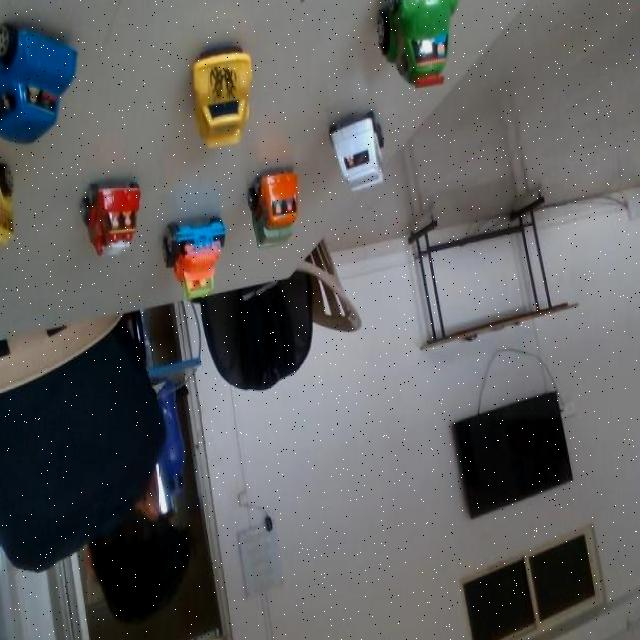car: (340, 0, 527, 128), (155, 21, 305, 159), (315, 86, 419, 215), (0, 25, 83, 140), (149, 209, 232, 314), (245, 147, 312, 268), (88, 168, 152, 260), (0, 157, 27, 236)
